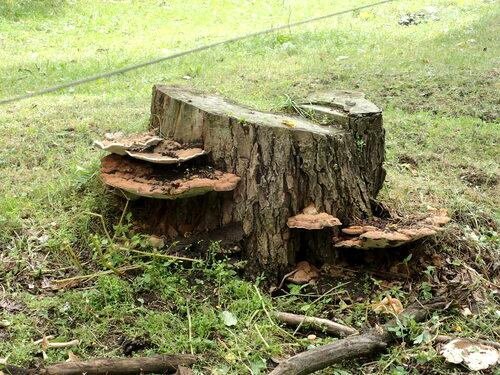Ganoderma - Fruit Body: (98, 168, 242, 203), (93, 128, 205, 165), (342, 219, 438, 252), (289, 207, 338, 229)
